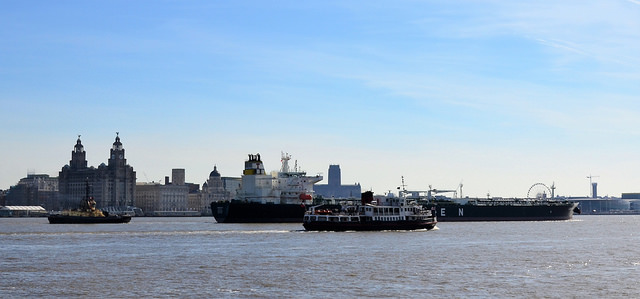boat: (295, 187, 438, 233), (48, 203, 138, 227)
tanker: (209, 148, 579, 220)
